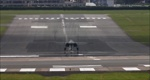maybay_muctieu: (56, 35, 86, 52)
